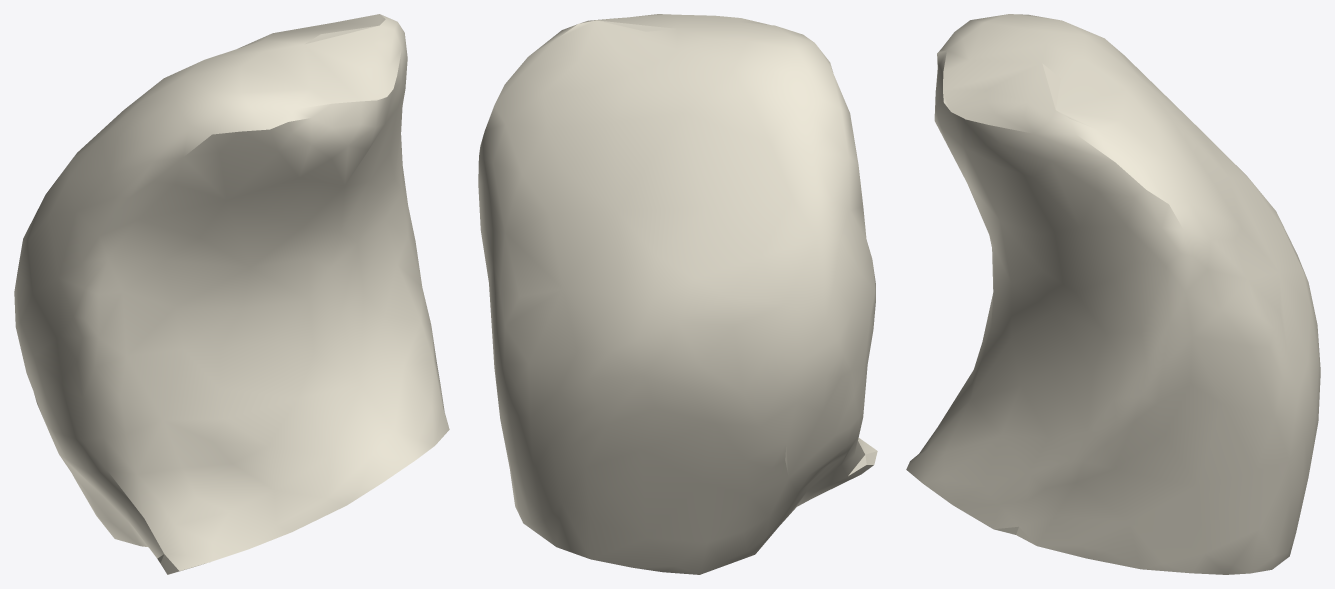
Rendered from fma33753_mm1891m.glb.
The picture shows the model from 3 angles, left to right: view 1: azimuth 30°, elevation 25°; view 2: azimuth 150°, elevation 25°; view 3: azimuth 270°, elevation 25°; orthographic projection. The views are drawn at different scales.
Parts seen in each view (by area): view 1: FMA33753_MM1891M; view 2: FMA33753_MM1891M; view 3: FMA33753_MM1891M.
Boxes of the visible parts, bbox=[...] form: FMA33753_MM1891M: bbox=[14, 14, 449, 574]; FMA33753_MM1891M: bbox=[478, 14, 877, 574]; FMA33753_MM1891M: bbox=[906, 14, 1320, 574].
Size of the model in its own units: 0.0212 by 0.0267 by 0.0195.
